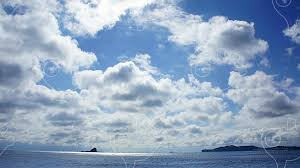sea: (4, 144, 298, 167)
sky: (3, 1, 295, 143)
